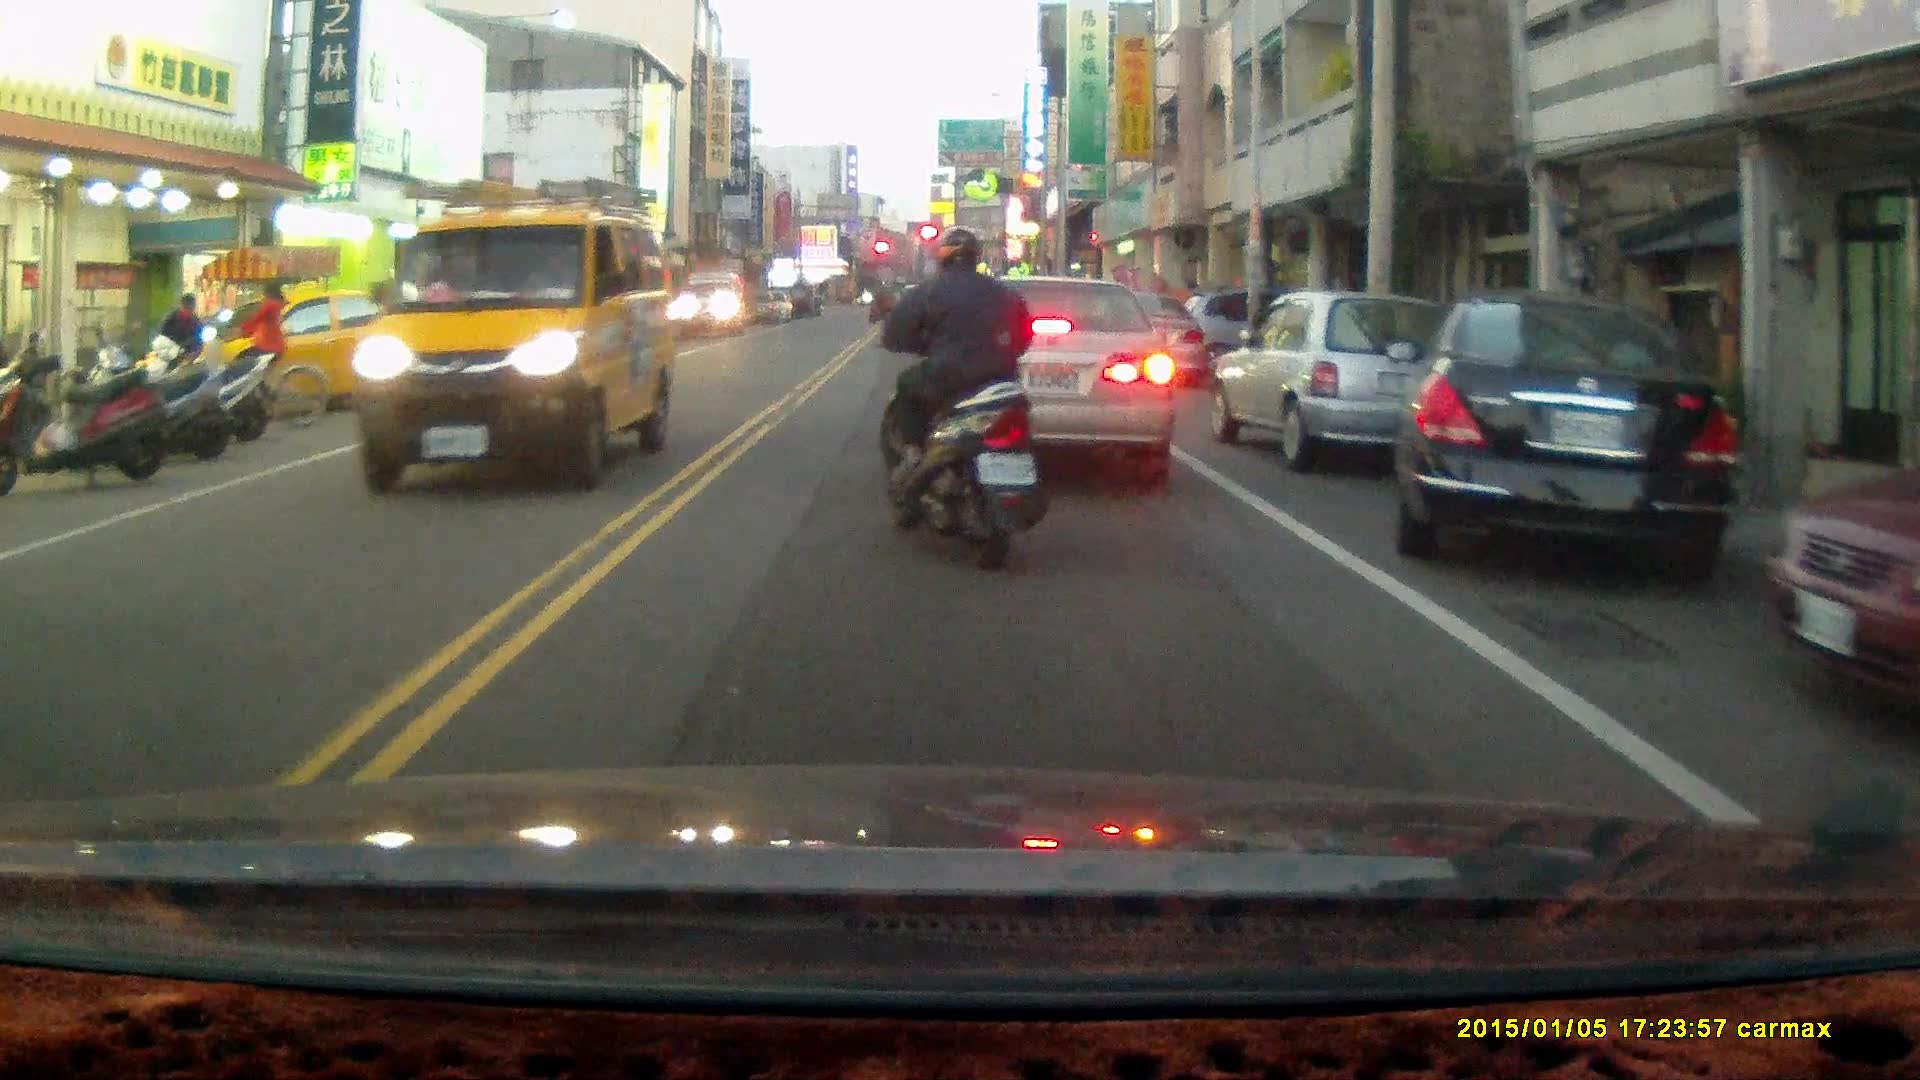pedestrian: (156, 289, 204, 395)
rider: (870, 220, 1055, 571), (208, 276, 325, 434)
vehicle: (1383, 293, 1744, 588), (354, 177, 682, 497), (916, 275, 1182, 487), (1765, 407, 1920, 747), (1214, 290, 1453, 472), (199, 288, 465, 411), (684, 268, 751, 338)
